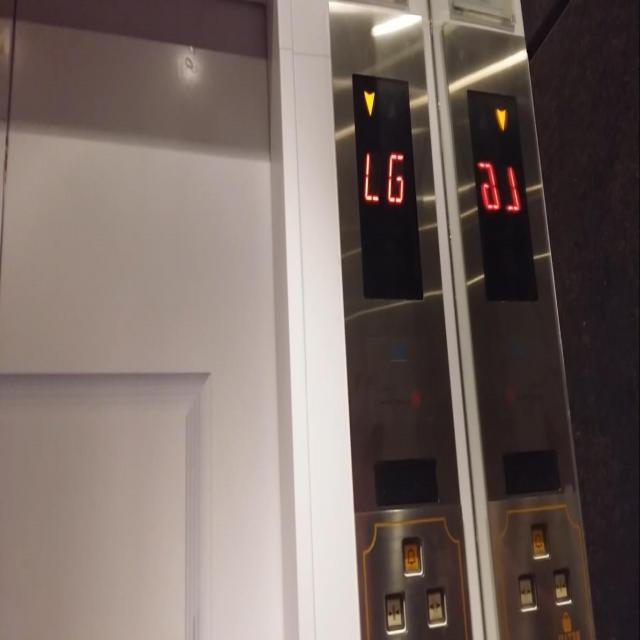alarm: (400, 535, 425, 577), (528, 519, 551, 560)
close: (382, 590, 408, 635), (552, 566, 574, 606)
led: (350, 68, 426, 302), (465, 84, 540, 304)
open: (424, 586, 448, 627), (516, 571, 539, 613)
